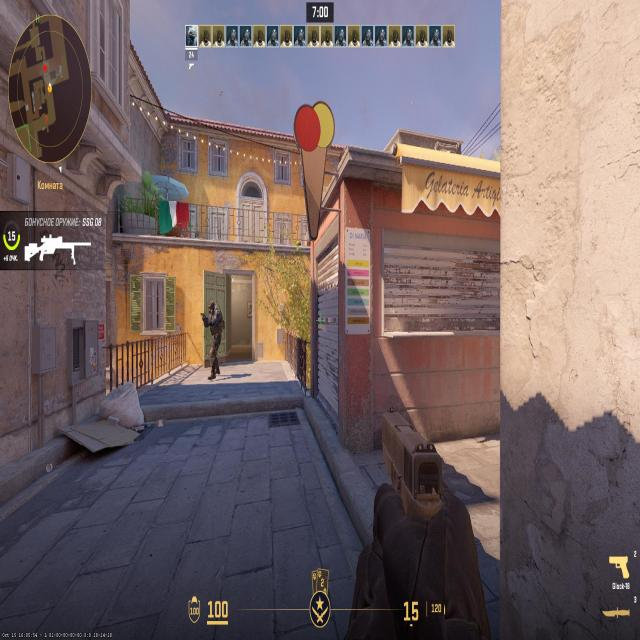CT: (212, 302, 224, 362)
CT_heat: (209, 305, 215, 318)
